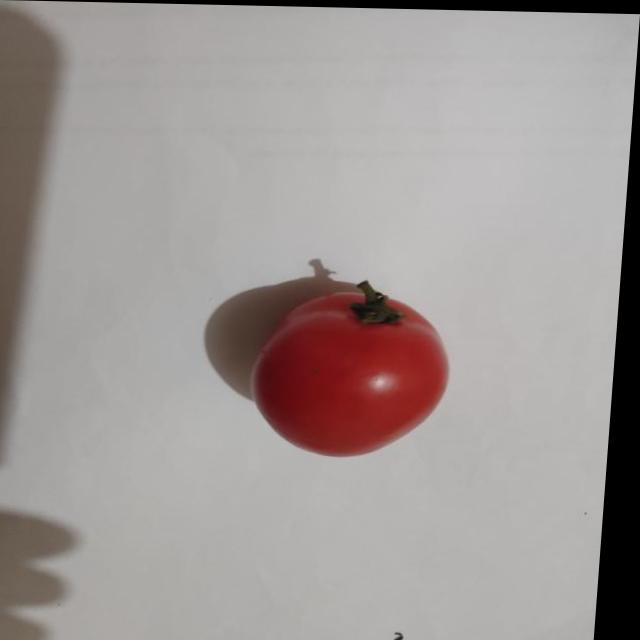kirmizi: (225, 266, 497, 479)
